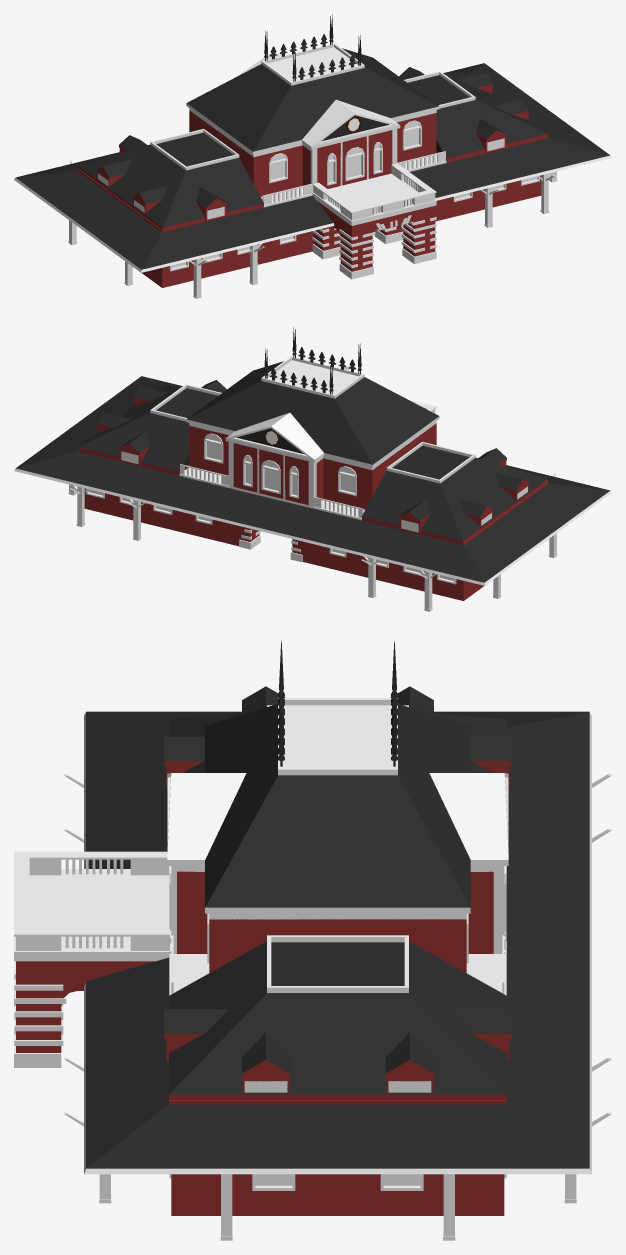
File: Taipei.fbx
3 renders of one model, top to bottom at view 1: azimuth 30°, elevation 25°; view 2: azimuth 150°, elevation 25°; view 3: azimuth 270°, elevation 25°, orthographic. The views are drawn at different scales.
Visible parts, largest first — view 1: Cube.001; view 2: Cube.001; view 3: Cube.001.
Boxes of the visible parts, x1=… form: Cube.001: x1=14, y1=14, x2=611, y2=298; Cube.001: x1=14, y1=327, x2=611, y2=611; Cube.001: x1=14, y1=640, x2=611, y2=1240.
Size of the model in its own units: 2520 by 918 by 1389.
